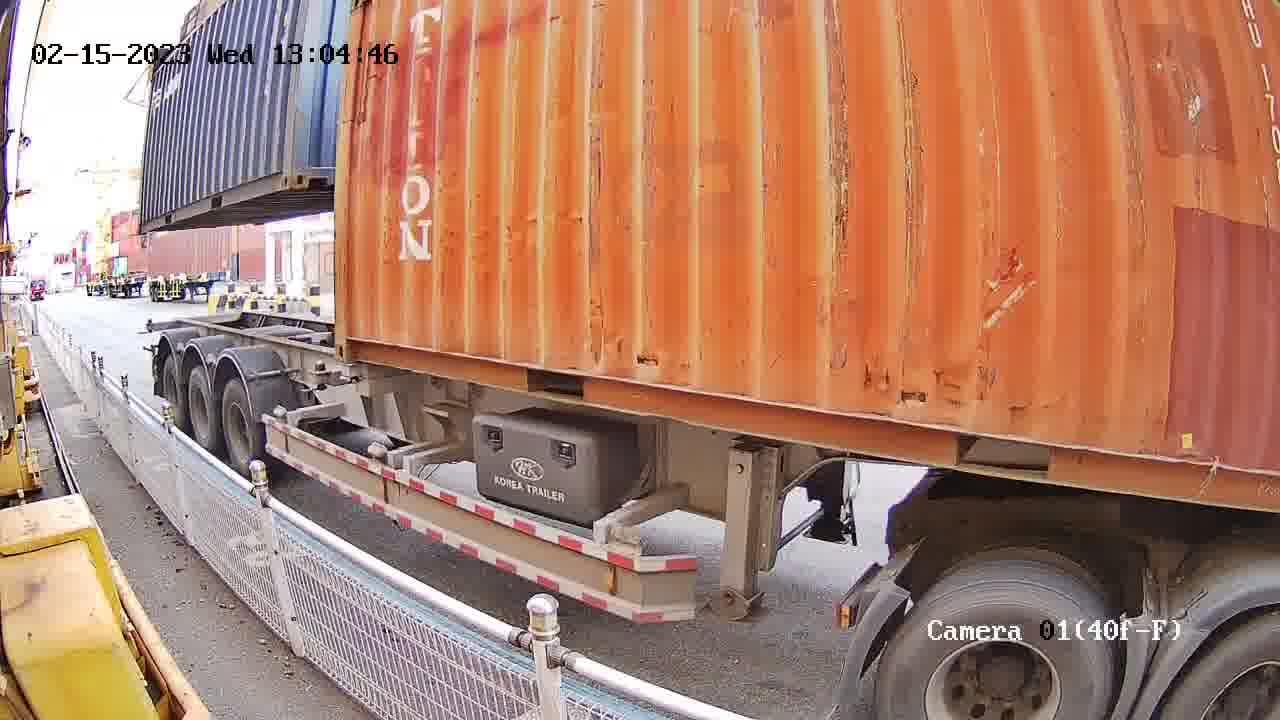Cone: (302, 361, 339, 393), (340, 365, 361, 382)
Hole_L: (333, 317, 381, 364), (292, 149, 336, 190)
Hole_R: (261, 149, 293, 197)
Tire: (873, 594, 1109, 716), (1162, 613, 1277, 715), (221, 381, 257, 473), (188, 370, 214, 447), (158, 357, 182, 419)
